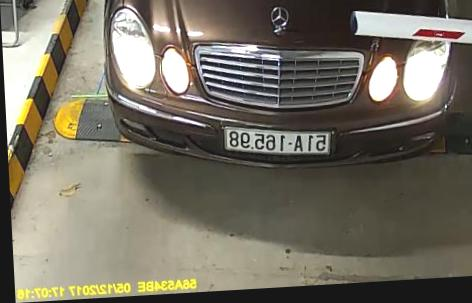License_Plate: (223, 120, 341, 160)
